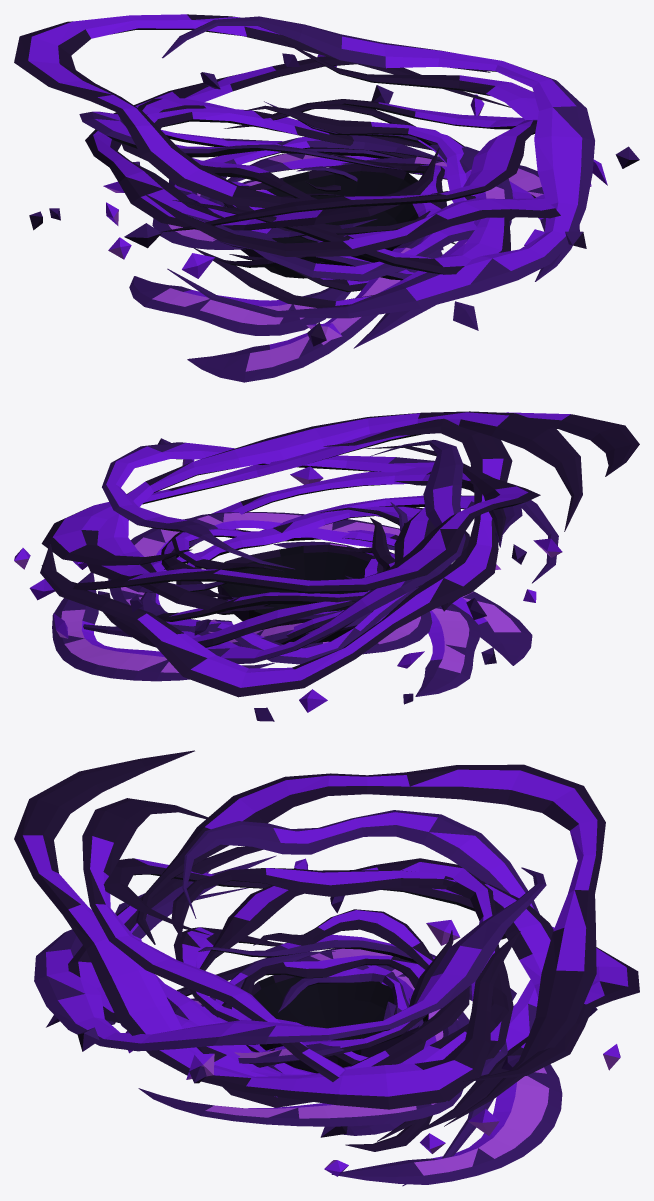
The model's file is Black_Hole.glb.
The picture shows the model from 3 angles, top to bottom: view 1: azimuth 30°, elevation 25°; view 2: azimuth 150°, elevation 25°; view 3: azimuth 270°, elevation 25°; orthographic projection. The views are drawn at different scales.
Parts seen in each view (by area): view 1: Gravity_Arc_16, VOID_IMPLOSION, Gravity_Arc_17, Gravity_Arc_18, Gravity_Arc_15, Gravity_Arc_14, Recessed_Singularity, Gravity_Arc_12, Gravity_Arc_08, Gravity_Arc_09, Gravity_Arc_13, Gravity_Arc_10 (+5 smaller); view 2: VOID_IMPLOSION, Gravity_Arc_15, Gravity_Arc_14, Gravity_Arc_18, Gravity_Arc_17, Gravity_Arc_16, Gravity_Arc_13, Recessed_Singularity, Gravity_Arc_11, Gravity_Arc_12, Gravity_Arc_07, Gravity_Arc_06 (+5 smaller); view 3: Gravity_Arc_18, Gravity_Arc_17, VOID_IMPLOSION, Gravity_Arc_16, Gravity_Arc_13, Gravity_Arc_14, Gravity_Arc_11, Gravity_Arc_15, Recessed_Singularity, Gravity_Arc_12, Gravity_Arc_09, Gravity_Arc_05 (+7 smaller).
Boxes of the visible parts, x1=… form: Gravity_Arc_16: x1=162, y1=16, x2=594, y2=318; VOID_IMPLOSION: x1=103, y1=54, x2=607, y2=382; Gravity_Arc_17: x1=14, y1=14, x2=510, y2=207; Gravity_Arc_18: x1=143, y1=38, x2=560, y2=256; Gravity_Arc_15: x1=85, y1=56, x2=490, y2=230; Gravity_Arc_14: x1=159, y1=99, x2=537, y2=232; Recessed_Singularity: x1=224, y1=163, x2=418, y2=278; Gravity_Arc_12: x1=172, y1=103, x2=535, y2=274; Gravity_Arc_08: x1=193, y1=105, x2=475, y2=307; Gravity_Arc_09: x1=121, y1=108, x2=430, y2=234; Gravity_Arc_13: x1=79, y1=111, x2=401, y2=169; Gravity_Arc_10: x1=183, y1=101, x2=476, y2=281; VOID_IMPLOSION: x1=29, y1=459, x2=562, y2=712; Gravity_Arc_15: x1=40, y1=418, x2=512, y2=697; Gravity_Arc_14: x1=87, y1=411, x2=582, y2=610; Gravity_Arc_18: x1=41, y1=412, x2=639, y2=565; Gravity_Arc_17: x1=41, y1=445, x2=540, y2=593; Gravity_Arc_16: x1=102, y1=442, x2=558, y2=583; Gravity_Arc_13: x1=83, y1=440, x2=465, y2=663; Recessed_Singularity: x1=217, y1=544, x2=385, y2=642; Gravity_Arc_11: x1=103, y1=481, x2=435, y2=647; Gravity_Arc_12: x1=161, y1=467, x2=506, y2=570; Gravity_Arc_07: x1=139, y1=502, x2=423, y2=664; Gravity_Arc_06: x1=176, y1=506, x2=469, y2=604; Gravity_Arc_18: x1=14, y1=750, x2=520, y2=1109; Gravity_Arc_17: x1=136, y1=764, x2=605, y2=1126; VOID_IMPLOSION: x1=46, y1=870, x2=620, y2=1184; Gravity_Arc_16: x1=34, y1=867, x2=546, y2=1051; Gravity_Arc_13: x1=182, y1=810, x2=539, y2=1186; Gravity_Arc_14: x1=82, y1=798, x2=508, y2=1081; Gravity_Arc_11: x1=171, y1=868, x2=553, y2=1133; Gravity_Arc_15: x1=103, y1=858, x2=639, y2=1081; Recessed_Singularity: x1=251, y1=965, x2=428, y2=1073; Gravity_Arc_12: x1=68, y1=846, x2=469, y2=1107; Gravity_Arc_09: x1=199, y1=858, x2=513, y2=1141; Gravity_Arc_05: x1=253, y1=909, x2=433, y2=1151.
Bounding box in the file's own units: 8.7 × 3.29 × 8.72.
